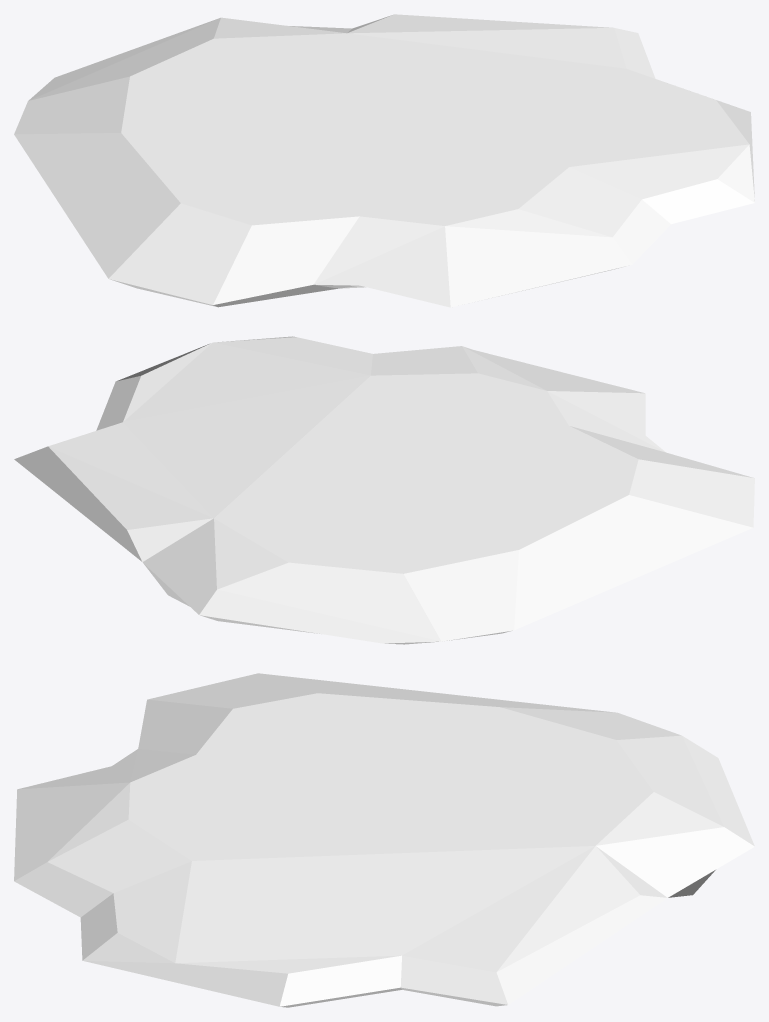
The model's file is SM_Prop_Coral_09.glb.
3 renders of one model, top to bottom at view 1: azimuth 30°, elevation 25°; view 2: azimuth 150°, elevation 25°; view 3: azimuth 270°, elevation 25°, orthographic. The views are drawn at different scales.
Parts seen in each view (by area): view 1: SM_Prop_Coral_09; view 2: SM_Prop_Coral_09; view 3: SM_Prop_Coral_09.
Part boxes in pixels (x1=…): SM_Prop_Coral_09: x1=14, y1=14, x2=754, y2=307; SM_Prop_Coral_09: x1=14, y1=336, x2=754, y2=644; SM_Prop_Coral_09: x1=14, y1=673, x2=754, y2=1007.
Size of the model in its own units: 0.4614 by 0.0387 by 0.433.
Materials: 1 (1 with a texture image).
